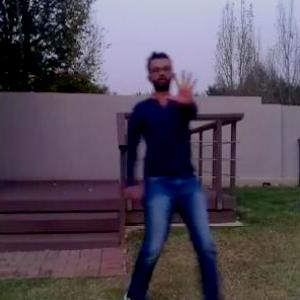follow_hand: (164, 69, 201, 105)
